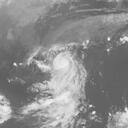cyclone: (48, 50, 85, 97)
